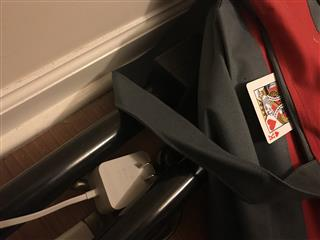KingOfHearts: (245, 72, 292, 144)
